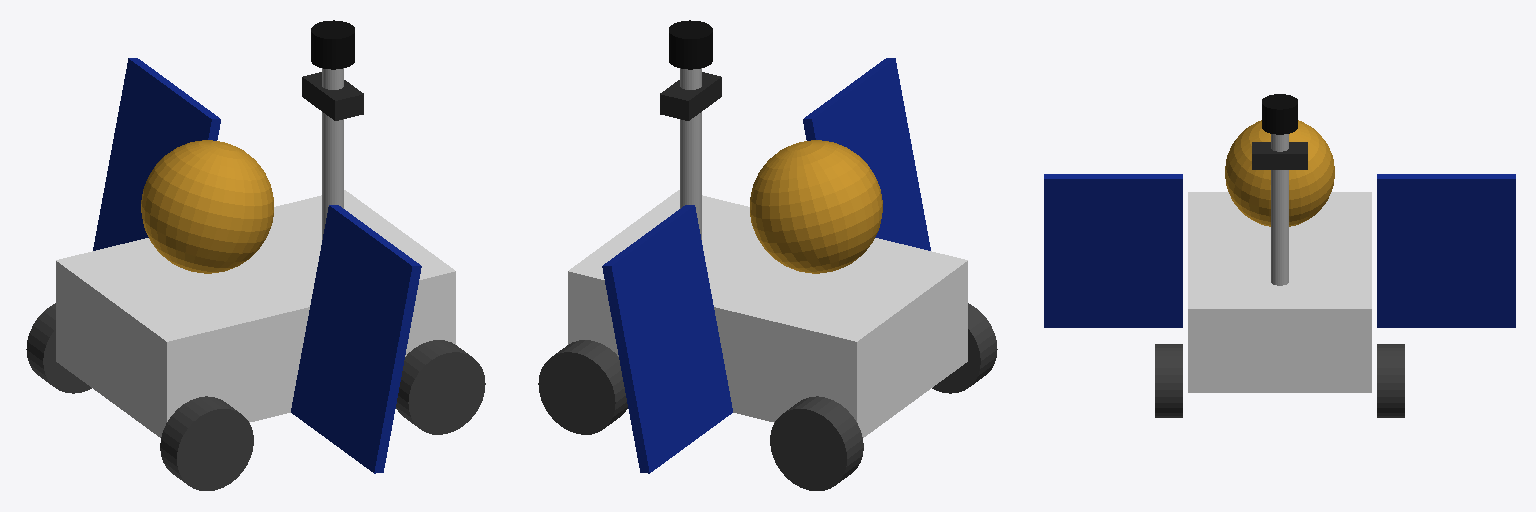
URDF robot description (nasa_lunar_rover):
<?xml version="1.0"?>
<robot name="nasa_lunar_rover" xmlns:xacro="http://www.ros.org/wiki/xacro">
  
  <!-- Main Rover Chassis -->
  <link name="base_link">
    <visual>
      <geometry>
        <box size="3.0 2.0 1.0"/>
      </geometry>
      <material name="rover_white">
        <color rgba="0.9 0.9 0.9 1"/>
      </material>
    </visual>
    <collision>
      <geometry>
        <box size="3.0 2.0 1.0"/>
      </geometry>
    </collision>
    <inertial>
      <mass value="400"/>
      <inertia ixx="40" ixy="0" ixz="0" iyy="60" iyz="0" izz="80"/>
    </inertial>
  </link>

  <!-- Front Left Wheel -->
  <link name="front_left_wheel">
    <visual>
      <geometry>
        <cylinder radius="0.4" length="0.3"/>
      </geometry>
      <material name="wheel_gray">
        <color rgba="0.3 0.3 0.3 1"/>
      </material>
    </visual>
    <collision>
      <geometry>
        <cylinder radius="0.4" length="0.3"/>
      </geometry>
    </collision>
    <inertial>
      <mass value="15"/>
      <inertia ixx="1.2" ixy="0" ixz="0" iyy="1.2" iyz="0" izz="2.4"/>
    </inertial>
  </link>

  <!-- Front Right Wheel -->
  <link name="front_right_wheel">
    <visual>
      <geometry>
        <cylinder radius="0.4" length="0.3"/>
      </geometry>
      <material name="wheel_gray">
        <color rgba="0.3 0.3 0.3 1"/>
      </material>
    </visual>
    <collision>
      <geometry>
        <cylinder radius="0.4" length="0.3"/>
      </geometry>
    </collision>
    <inertial>
      <mass value="15"/>
      <inertia ixx="1.2" ixy="0" ixz="0" iyy="1.2" iyz="0" izz="2.4"/>
    </inertial>
  </link>

  <!-- Rear Left Wheel -->
  <link name="rear_left_wheel">
    <visual>
      <geometry>
        <cylinder radius="0.4" length="0.3"/>
      </geometry>
      <material name="wheel_gray">
        <color rgba="0.3 0.3 0.3 1"/>
      </material>
    </visual>
    <collision>
      <geometry>
        <cylinder radius="0.4" length="0.3"/>
      </geometry>
    </collision>
    <inertial>
      <mass value="15"/>
      <inertia ixx="1.2" ixy="0" ixz="0" iyy="1.2" iyz="0" izz="2.4"/>
    </inertial>
  </link>

  <!-- Rear Right Wheel -->
  <link name="rear_right_wheel">
    <visual>
      <geometry>
        <cylinder radius="0.4" length="0.3"/>
      </geometry>
      <material name="wheel_gray">
        <color rgba="0.3 0.3 0.3 1"/>
      </material>
    </visual>
    <collision>
      <geometry>
        <cylinder radius="0.4" length="0.3"/>
      </geometry>
    </collision>
    <inertial>
      <mass value="15"/>
      <inertia ixx="1.2" ixy="0" ixz="0" iyy="1.2" iyz="0" izz="2.4"/>
    </inertial>
  </link>

  <!-- Wheel Joints -->
  <joint name="front_left_wheel_joint" type="continuous">
    <parent link="base_link"/>
    <child link="front_left_wheel"/>
    <origin xyz="1.2 1.2 -0.5" rpy="-1.5707 0 0"/>
    <axis xyz="0 0 1"/>
  </joint>

  <joint name="front_right_wheel_joint" type="continuous">
    <parent link="base_link"/>
    <child link="front_right_wheel"/>
    <origin xyz="1.2 -1.2 -0.5" rpy="-1.5707 0 0"/>
    <axis xyz="0 0 1"/>
  </joint>

  <joint name="rear_left_wheel_joint" type="continuous">
    <parent link="base_link"/>
    <child link="rear_left_wheel"/>
    <origin xyz="-1.2 1.2 -0.5" rpy="-1.5707 0 0"/>
    <axis xyz="0 0 1"/>
  </joint>

  <joint name="rear_right_wheel_joint" type="continuous">
    <parent link="base_link"/>
    <child link="rear_right_wheel"/>
    <origin xyz="-1.2 -1.2 -0.5" rpy="-1.5707 0 0"/>
    <axis xyz="0 0 1"/>
  </joint>

  <!-- Communication Dish -->
  <link name="comm_dish">
    <visual>
      <geometry>
        <sphere radius="0.6"/>
      </geometry>
      <material name="dish_gold">
        <color rgba="0.8 0.6 0.2 1"/>
      </material>
    </visual>
    <collision>
      <geometry>
        <sphere radius="0.6"/>
      </geometry>
    </collision>
    <inertial>
      <mass value="5"/>
      <inertia ixx="0.72" ixy="0" ixz="0" iyy="0.72" iyz="0" izz="0.72"/>
    </inertial>
  </link>

  <joint name="comm_dish_joint" type="fixed">
    <parent link="base_link"/>
    <child link="comm_dish"/>
    <origin xyz="-0.5 0 1.2" rpy="0 0.3 0"/>
  </joint>

  <!-- Scientific Instruments Mast -->
  <link name="instrument_mast">
    <visual>
      <geometry>
        <cylinder radius="0.1" length="2.0"/>
      </geometry>
      <material name="mast_silver">
        <color rgba="0.7 0.7 0.7 1"/>
      </material>
    </visual>
    <collision>
      <geometry>
        <cylinder radius="0.1" length="2.0"/>
      </geometry>
    </collision>
    <inertial>
      <mass value="8"/>
      <inertia ixx="2.67" ixy="0" ixz="0" iyy="2.67" iyz="0" izz="0.04"/>
    </inertial>
  </link>

  <joint name="instrument_mast_joint" type="fixed">
    <parent link="base_link"/>
    <child link="instrument_mast"/>
    <origin xyz="0.8 0 1.5" rpy="0 0 0"/>
  </joint>

  <!-- LiDAR Scanner -->
  <link name="lidar_link">
    <visual>
      <geometry>
        <cylinder radius="0.2" length="0.3"/>
      </geometry>
      <material name="lidar_black">
        <color rgba="0.1 0.1 0.1 1"/>
      </material>
    </visual>
    <collision>
      <geometry>
        <cylinder radius="0.2" length="0.3"/>
      </geometry>
    </collision>
    <inertial>
      <mass value="3"/>
      <inertia ixx="0.045" ixy="0" ixz="0" iyy="0.045" iyz="0" izz="0.06"/>
    </inertial>
  </link>

  <joint name="lidar_joint" type="fixed">
    <parent link="instrument_mast"/>
    <child link="lidar_link"/>
    <origin xyz="0 0 1.0" rpy="0 0 0"/>
  </joint>

  <!-- Stereo Camera System -->
  <link name="camera_link">
    <visual>
      <geometry>
        <box size="0.3 0.6 0.2"/>
      </geometry>
      <material name="camera_black">
        <color rgba="0.2 0.2 0.2 1"/>
      </material>
    </visual>
    <collision>
      <geometry>
        <box size="0.3 0.6 0.2"/>
      </geometry>
    </collision>
    <inertial>
      <mass value="2"/>
      <inertia ixx="0.067" ixy="0" ixz="0" iyy="0.027" iyz="0" izz="0.083"/>
    </inertial>
  </link>

  <joint name="camera_joint" type="fixed">
    <parent link="instrument_mast"/>
    <child link="camera_link"/>
    <origin xyz="0 0 0.5" rpy="0 0 0"/>
  </joint>

  <!-- Solar Panels -->
  <link name="solar_panel_left">
    <visual>
      <geometry>
        <box size="0.1 1.5 2.0"/>
      </geometry>
      <material name="solar_blue">
        <color rgba="0.1 0.2 0.6 1"/>
      </material>
    </visual>
    <collision>
      <geometry>
        <box size="0.1 1.5 2.0"/>
      </geometry>
    </collision>
    <inertial>
      <mass value="10"/>
      <inertia ixx="5.83" ixy="0" ixz="0" iyy="3.35" iyz="0" izz="2.51"/>
    </inertial>
  </link>

  <joint name="solar_panel_left_joint" type="fixed">
    <parent link="base_link"/>
    <child link="solar_panel_left"/>
    <origin xyz="0 1.8 0.5" rpy="0 0.2 0"/>
  </joint>

  <link name="solar_panel_right">
    <visual>
      <geometry>
        <box size="0.1 1.5 2.0"/>
      </geometry>
      <material name="solar_blue">
        <color rgba="0.1 0.2 0.6 1"/>
      </material>
    </visual>
    <collision>
      <geometry>
        <box size="0.1 1.5 2.0"/>
      </geometry>
    </collision>
    <inertial>
      <mass value="10"/>
      <inertia ixx="5.83" ixy="0" ixz="0" iyy="3.35" iyz="0" izz="2.51"/>
    </inertial>
  </link>

  <joint name="solar_panel_right_joint" type="fixed">
    <parent link="base_link"/>
    <child link="solar_panel_right"/>
    <origin xyz="0 -1.8 0.5" rpy="0 0.2 0"/>
  </joint>

  <!-- Gazebo Plugins for 4-wheel drive -->
  <gazebo>
    <plugin name="skid_steer_drive_controller" filename="libgazebo_ros_diff_drive.so">
      <ros>
        <namespace>/nasa_lunar_rover</namespace>
      </ros>
      <left_joint>front_left_wheel_joint</left_joint>
      <right_joint>front_right_wheel_joint</right_joint>
      <left_joint>rear_left_wheel_joint</left_joint>
      <right_joint>rear_right_wheel_joint</right_joint>
      <wheel_separation>2.4</wheel_separation>
      <wheel_diameter>0.8</wheel_diameter>
      <max_wheel_torque>100</max_wheel_torque>
      <max_wheel_acceleration>2.0</max_wheel_acceleration>
      <publish_odom>true</publish_odom>
      <publish_odom_tf>true</publish_odom_tf>
      <publish_wheel_tf>true</publish_wheel_tf>
      <odometry_frame>odom</odometry_frame>
      <robot_base_frame>base_link</robot_base_frame>
    </plugin>
  </gazebo>

  <!-- LiDAR Plugin -->
  <gazebo reference="lidar_link">
    <plugin name="lidar_controller" filename="libgazebo_ros_ray_sensor.so">
      <ros>
        <namespace>/nasa_lunar_rover</namespace>
        <remapping>~/out:=scan</remapping>
      </ros>
      <output_type>sensor_msgs/LaserScan</output_type>
      <frame_name>lidar_link</frame_name>
      <update_rate>10</update_rate>
      <ray>
        <scan>
          <horizontal>
            <samples>360</samples>
            <resolution>1</resolution>
            <min_angle>-3.14159</min_angle>
            <max_angle>3.14159</max_angle>
          </horizontal>
        </scan>
        <range>
          <min>0.2</min>
          <max>50.0</max>
          <resolution>0.01</resolution>
        </range>
      </ray>
    </plugin>
  </gazebo>

  <!-- Camera Plugin -->
  <gazebo reference="camera_link">
    <plugin name="camera_controller" filename="libgazebo_ros_camera.so">
      <ros>
        <namespace>/nasa_lunar_rover</namespace>
        <remapping>image_raw:=camera/image_raw</remapping>
        <remapping>camera_info:=camera/camera_info</remapping>
      </ros>
      <camera_name>stereo_camera</camera_name>
      <frame_name>camera_link</frame_name>
      <update_rate>10</update_rate>
      <image>
        <width>1024</width>
        <height>768</height>
        <format>R8G8B8</format>
      </image>
      <clip>
        <near>0.1</near>
        <far>1000</far>
      </clip>
    </plugin>
  </gazebo>

</robot>

--- What the picture shows (computed from the rendered views, not written in the file) ---
3 views of the same robot in one strip: view 1: azimuth 30°, elevation 25°; view 2: azimuth 150°, elevation 25°; view 3: azimuth 270°, elevation 25° (orthographic).
Robot: nasa_lunar_rover — 11 links, 10 joints (4 continuous, 6 fixed); root link base_link; default pose: every joint at zero.
Links seen in each view (by area): view 1: base_link, solar_panel_right, comm_dish, solar_panel_left, rear_right_wheel, front_right_wheel, instrument_mast, rear_left_wheel, lidar_link, camera_link; view 2: base_link, solar_panel_left, comm_dish, solar_panel_right, rear_left_wheel, front_left_wheel, instrument_mast, rear_right_wheel, lidar_link, camera_link; view 3: base_link, solar_panel_left, solar_panel_right, comm_dish, instrument_mast, front_left_wheel, front_right_wheel, camera_link, lidar_link.
Boxes of the visible links, x1,y1,x2,y2 form: base_link: (56,190,455,437); solar_panel_right: (291,205,421,473); comm_dish: (141,140,273,273); solar_panel_left: (93,58,220,250); rear_right_wheel: (160,396,253,490); front_right_wheel: (396,340,485,434); instrument_mast: (322,68,343,239); rear_left_wheel: (26,303,91,393); lidar_link: (311,20,354,69); camera_link: (302,72,363,120); base_link: (568,190,967,437); solar_panel_left: (602,205,732,473); comm_dish: (750,140,882,273); solar_panel_right: (803,58,930,250); rear_left_wheel: (770,396,863,490); front_left_wheel: (538,340,627,434); instrument_mast: (680,68,701,239); rear_right_wheel: (932,303,997,393); lidar_link: (669,20,712,69); camera_link: (660,72,721,120); base_link: (1188,192,1371,392); solar_panel_left: (1377,174,1515,327); solar_panel_right: (1044,174,1182,327); comm_dish: (1225,120,1334,226); instrument_mast: (1271,134,1288,285); front_left_wheel: (1377,344,1404,417); front_right_wheel: (1155,344,1182,417); camera_link: (1252,142,1307,169); lidar_link: (1262,94,1297,134).
Bounding box of the posed robot: 3.2 × 5.1 × 3.55 m (x, y, z).
Geometry: primitives only (box / cylinder / sphere), no mesh files.